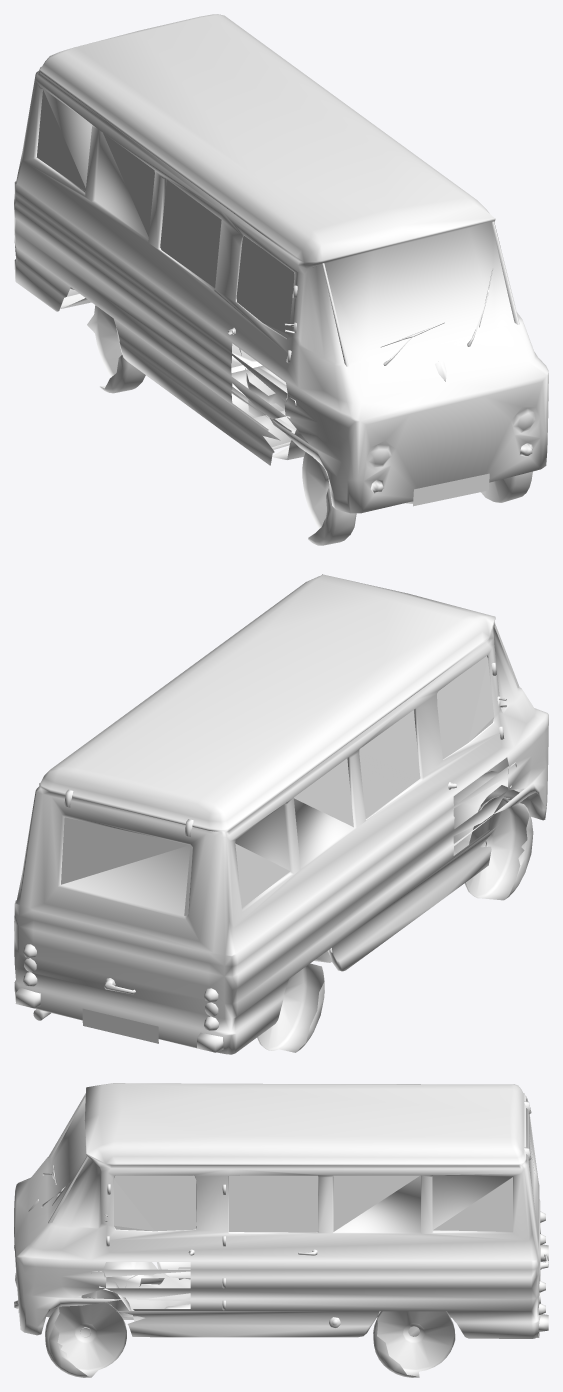
The picture shows the model from 3 angles, top to bottom: view 1: azimuth 30°, elevation 25°; view 2: azimuth 150°, elevation 25°; view 3: azimuth 270°, elevation 25°; orthographic projection. The views are drawn at different scales.
Size of the model in its own units: 1.67 by 2.05 by 4.31.
Materials: 1 (1 with a texture image).
